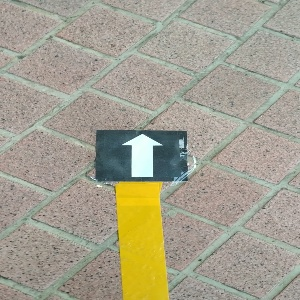straight: (96, 129, 187, 181)
